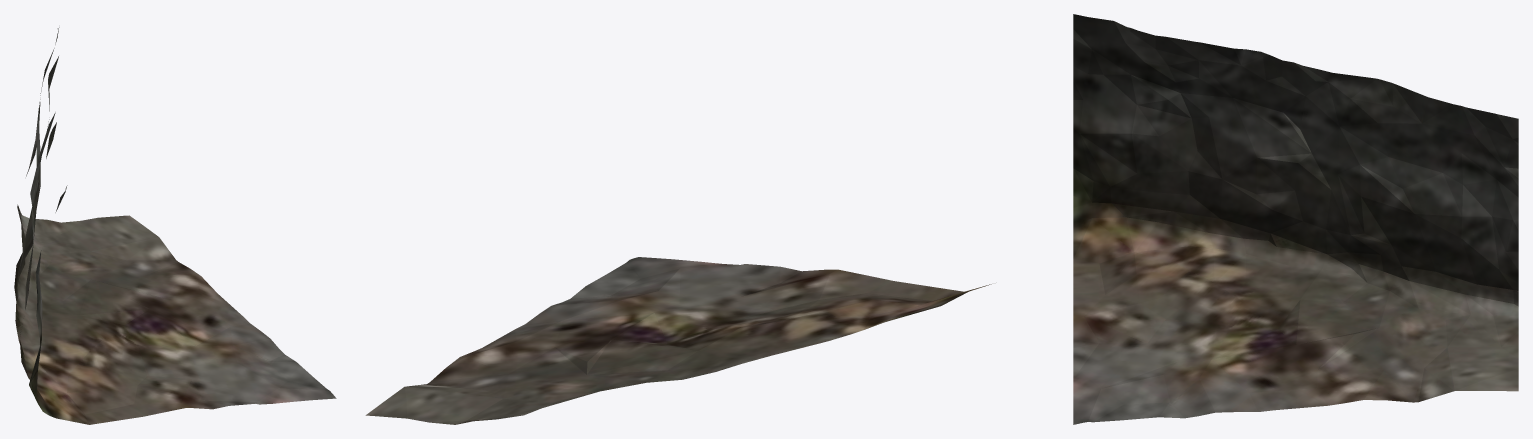
3 renders of one model, left to right at view 1: azimuth 30°, elevation 25°; view 2: azimuth 150°, elevation 25°; view 3: azimuth 270°, elevation 25°, orthographic. The views are drawn at different scales.
Size of the model in its own units: 0.7182 by 0.5578 by 0.8374.
Materials: 3 (3 with a texture image).
